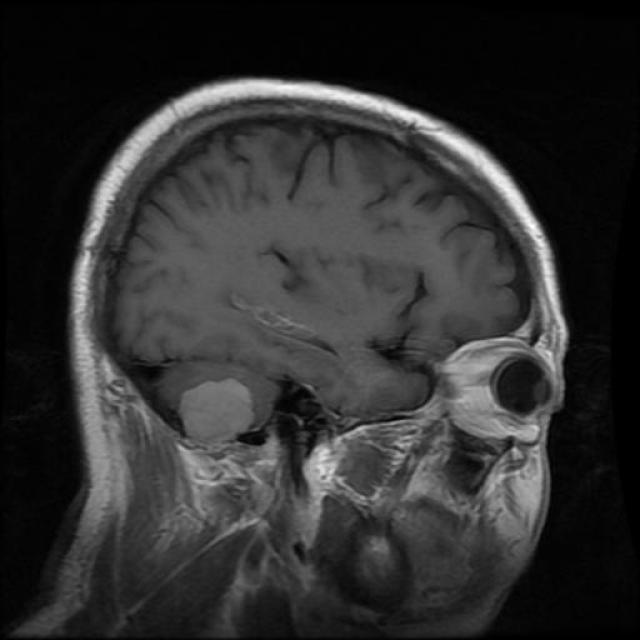Brain-Tumor: (163, 363, 275, 465)
eye: (419, 326, 571, 454)
